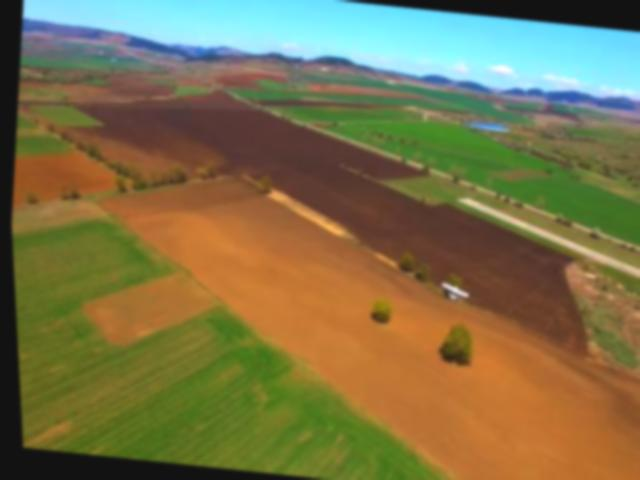uav: (433, 276, 472, 306)
